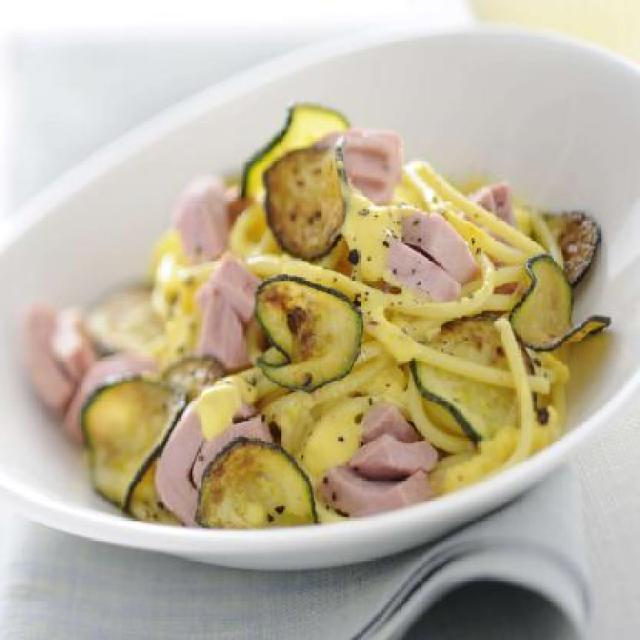Pasta with carbonara sauce: (99, 89, 618, 551)
